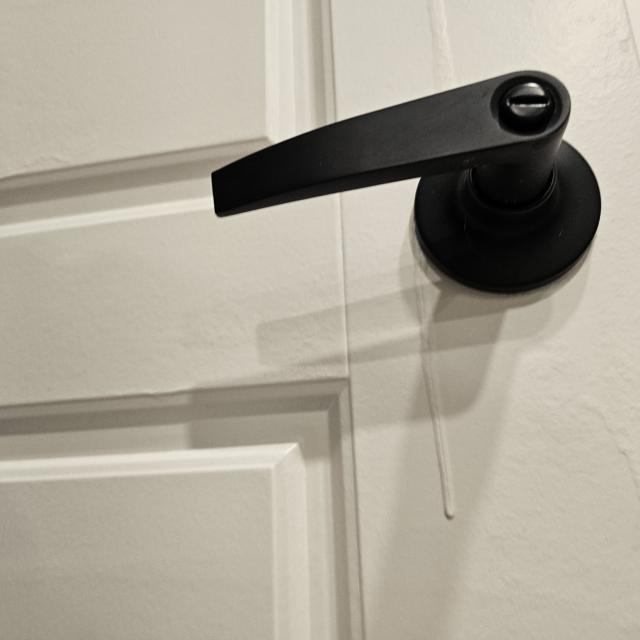door-handle: (212, 71, 600, 292)
